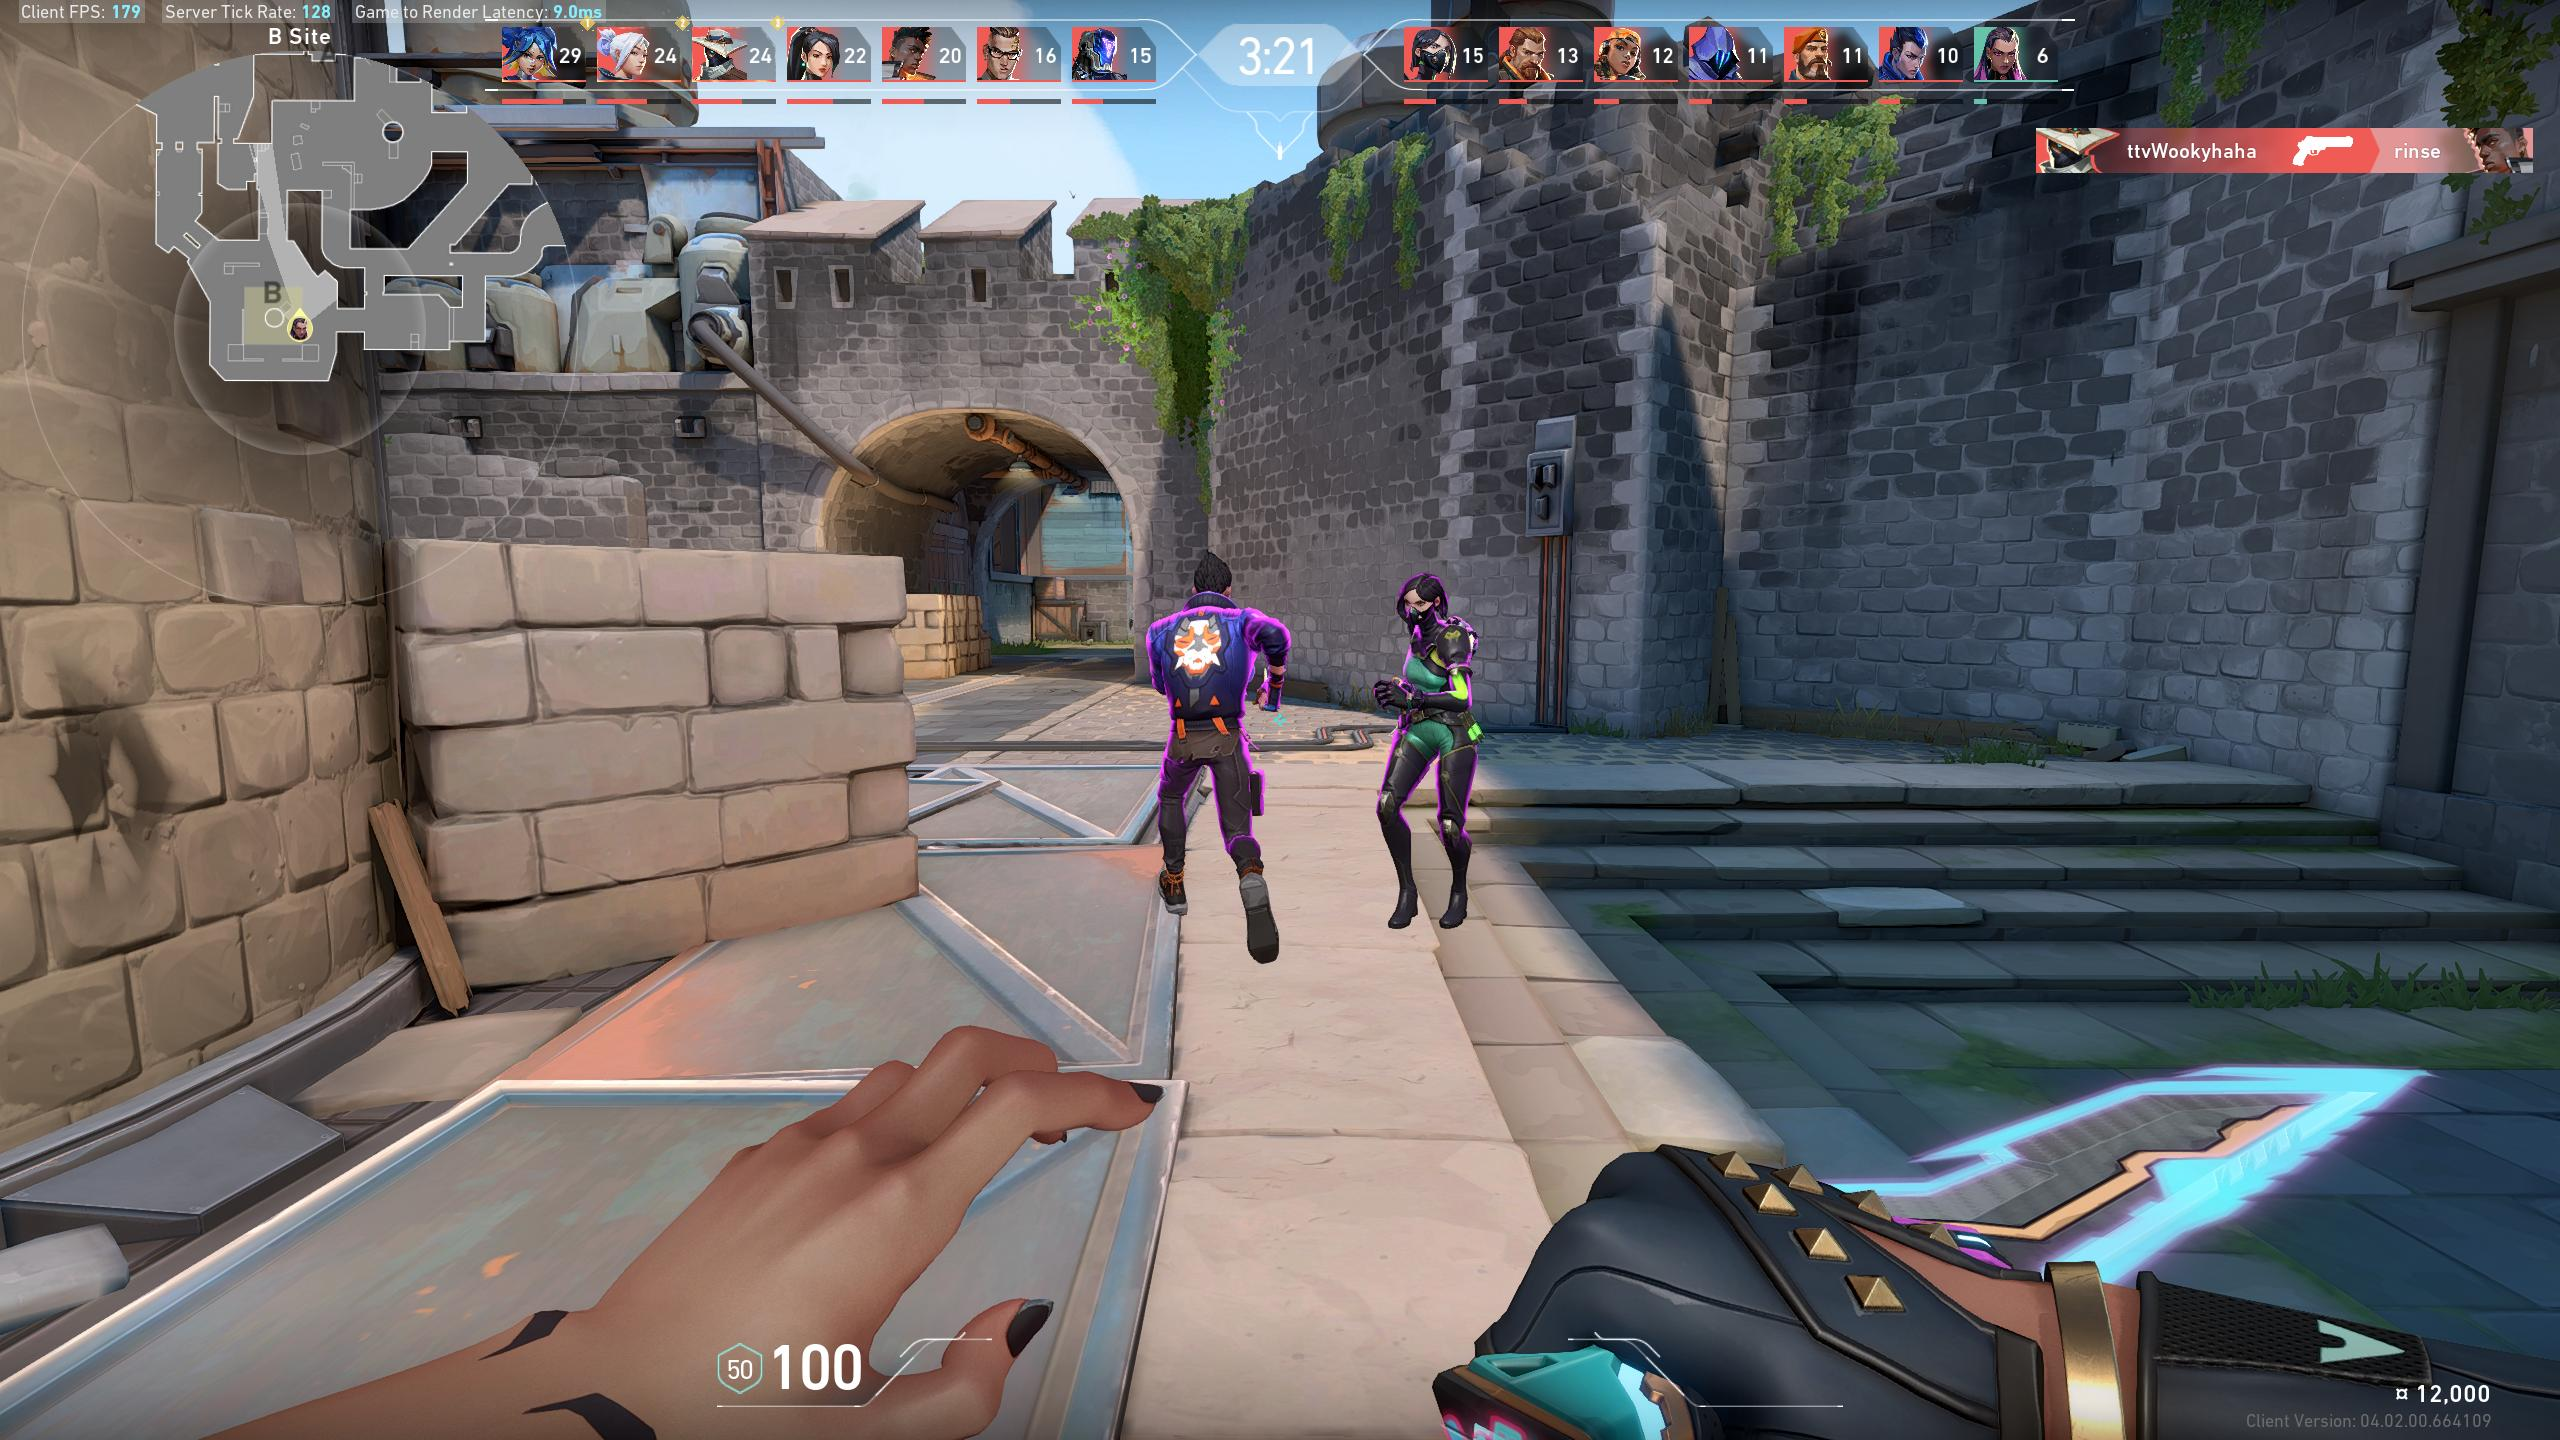enemyBody: (1175, 621, 1233, 737), (1415, 651, 1458, 735)
enemyHead: (1407, 591, 1444, 635), (1203, 566, 1227, 601)
